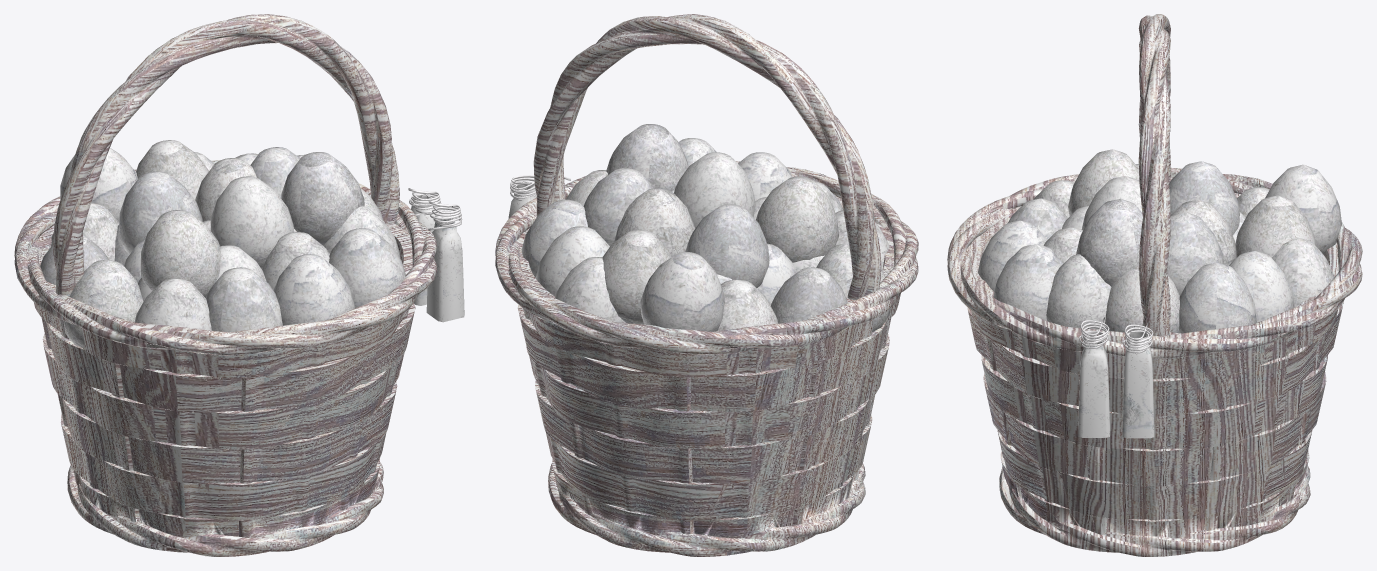
File: balut.obj
3 renders of one model, left to right at view 1: azimuth 30°, elevation 25°; view 2: azimuth 150°, elevation 25°; view 3: azimuth 270°, elevation 25°, orthographic. The views are drawn at different scales.
Visible parts, largest first — view 1: Basket1, Egg1, Egg2, Egg4, Egg13, Egg10, Egg16, Egg3, Egg22, SawSawan1, Egg18, Egg7 (+9 smaller); view 2: Basket1, Egg17, Egg2, Egg3, Egg7, Egg4, Egg1, Egg6, Egg24, Egg5, Egg26, Egg27 (+8 smaller); view 3: Basket1, Egg25, Egg1, Egg9, Egg10, Egg17, Egg7, Egg5, Asin1, Egg3, SawSawan1, Egg26 (+12 smaller).
Boxes of the visible parts, x1,y1,x2,y2 form: Basket1: (14,14,437,556); Egg1: (281,152,364,245); Egg2: (140,210,221,297); Egg4: (210,176,293,268); Egg13: (273,254,354,325); Egg10: (329,228,405,311); Egg16: (206,267,282,332); Egg3: (119,171,202,254); Egg22: (63,260,143,347); SawSawan1: (426,219,464,322); Egg18: (134,278,211,375); Egg7: (136,140,208,199); Basket1: (495,14,918,556); Egg17: (640,252,724,345); Egg2: (756,176,838,262); Egg3: (685,204,769,287); Egg7: (602,229,671,324); Egg4: (674,152,755,228); Egg1: (606,124,688,191); Egg6: (614,188,695,256); Egg24: (771,267,847,323); Egg5: (583,168,654,246); Egg26: (535,226,609,296); Egg27: (554,257,625,327); Basket1: (947,14,1362,556); Egg25: (1178,262,1256,342); Egg1: (1076,198,1142,286); Egg9: (1046,254,1111,329); Egg10: (993,244,1063,327); Egg17: (1265,164,1341,254); Egg7: (1235,195,1315,257); Egg5: (1167,212,1223,295); Asin1: (1122,332,1154,438); Egg3: (1169,161,1239,235); SawSawan1: (1078,338,1109,437); Egg26: (1229,251,1294,325).
Size of the model in its own units: 3.28 by 3.79 by 3.08.
